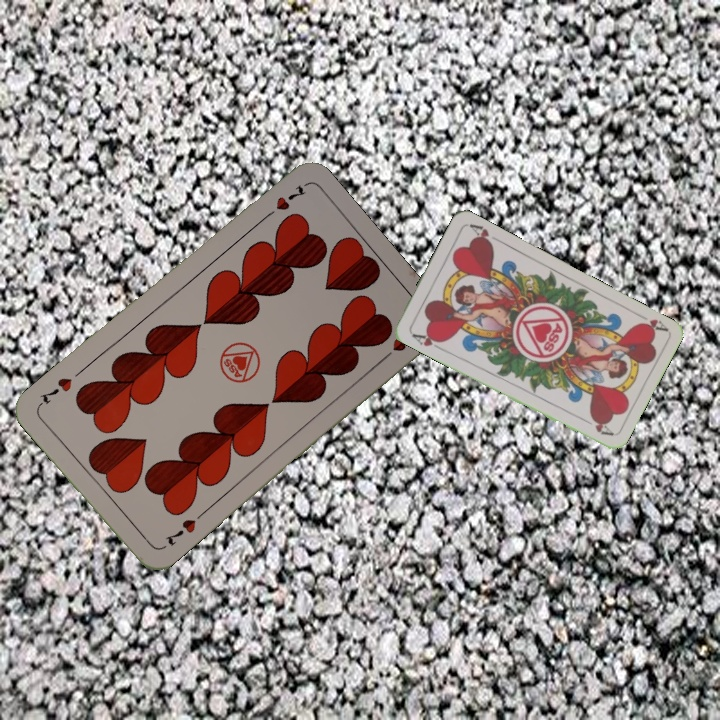H7: (258, 180, 309, 223), (161, 514, 199, 549)
HA: (632, 308, 669, 336), (408, 329, 447, 352)
